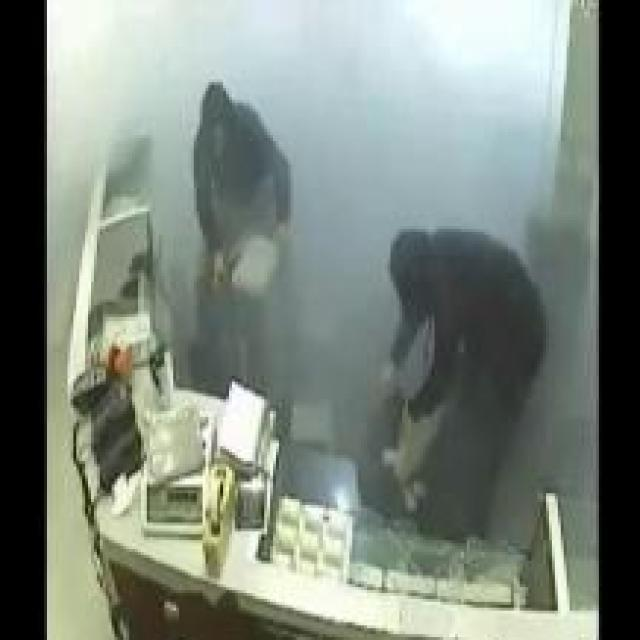fire: (292, 0, 565, 229)
